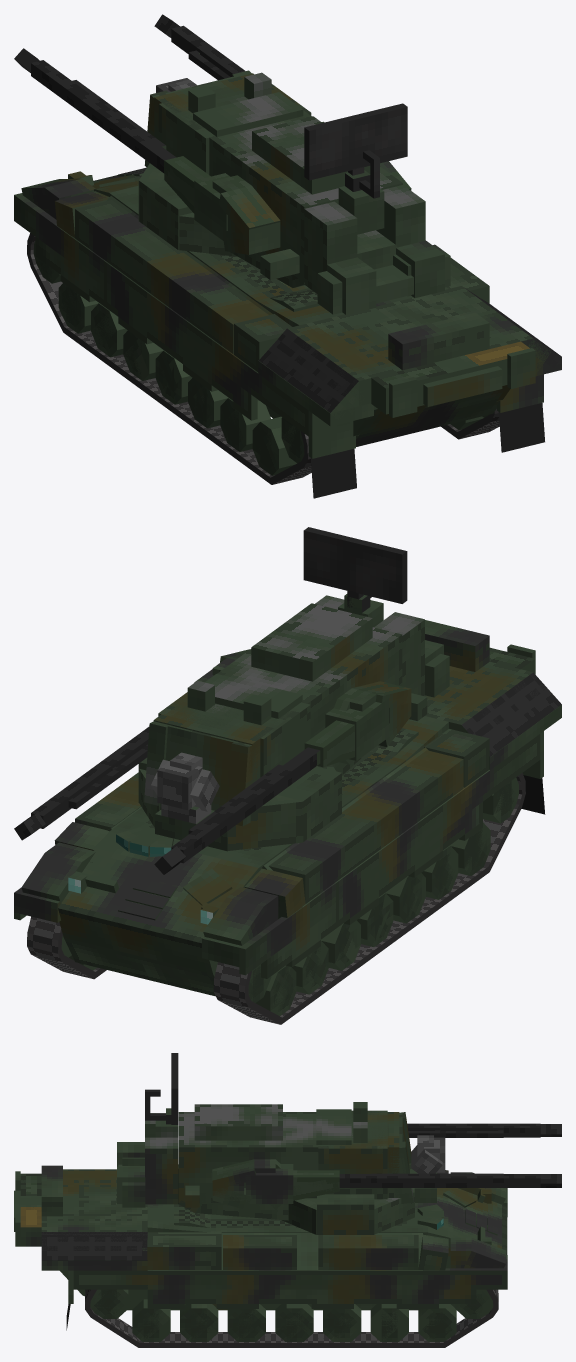
The model's file is gepard1a2.gltf.
3 renders of one model, top to bottom at view 1: azimuth 30°, elevation 25°; view 2: azimuth 150°, elevation 25°; view 3: azimuth 270°, elevation 25°, orthographic. The views are drawn at different scales.
Parts seen in each view (by area): view 1: cube (×54); view 2: cube (×59); view 3: cube (×66).
Boxes of the visible parts, box(x1,y1,x2,y2) form: cube (×54): box(14, 25, 544, 498); cube (×59): box(20, 527, 561, 1024); cube (×66): box(20, 1053, 540, 1347).
Bounding box in the file's own units: 2.33 × 3.1 × 6.47.
Materials: 1 (1 with a texture image).
